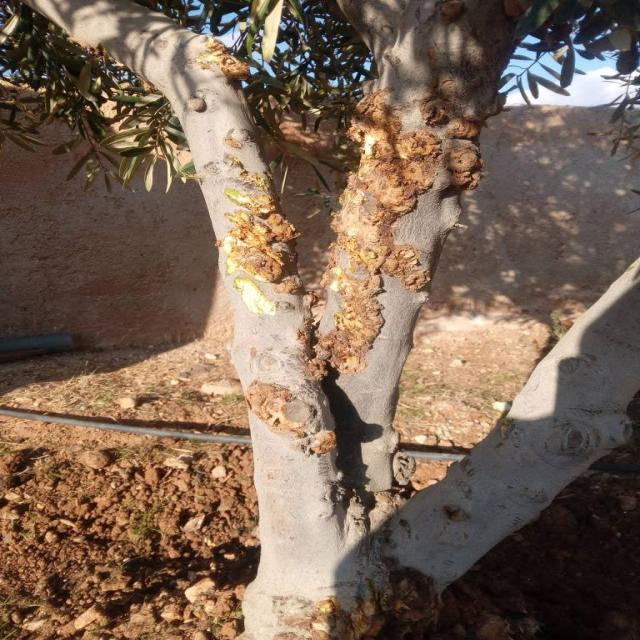Tuberculosis: (311, 89, 442, 378), (223, 171, 306, 300), (200, 38, 251, 82), (447, 144, 481, 192), (440, 0, 478, 23), (188, 98, 206, 112)
